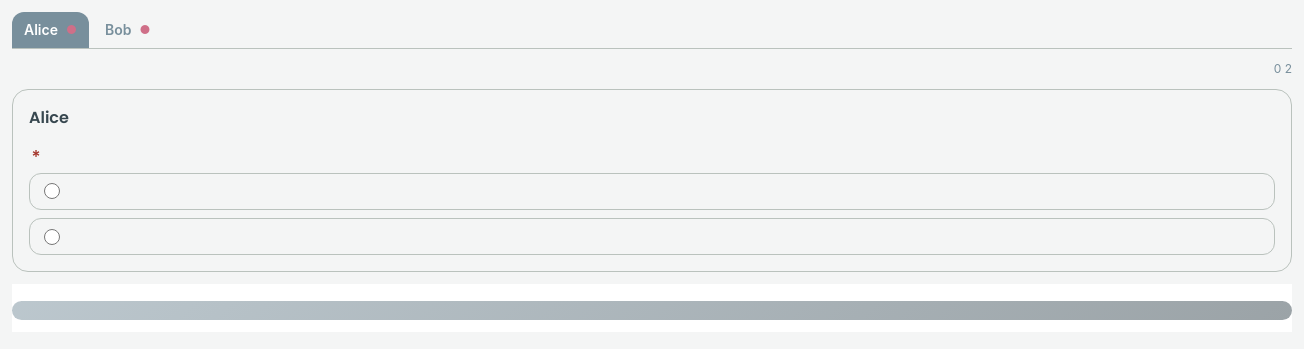
Test: GuestGroupRsvpForm › keeps the answers of a guest when another guest is selected in the meantime
The width and height of the screenshot is (1304, 349).
Step 1. Click the 2nd radio button → (52, 237), box [44, 229, 60, 245]
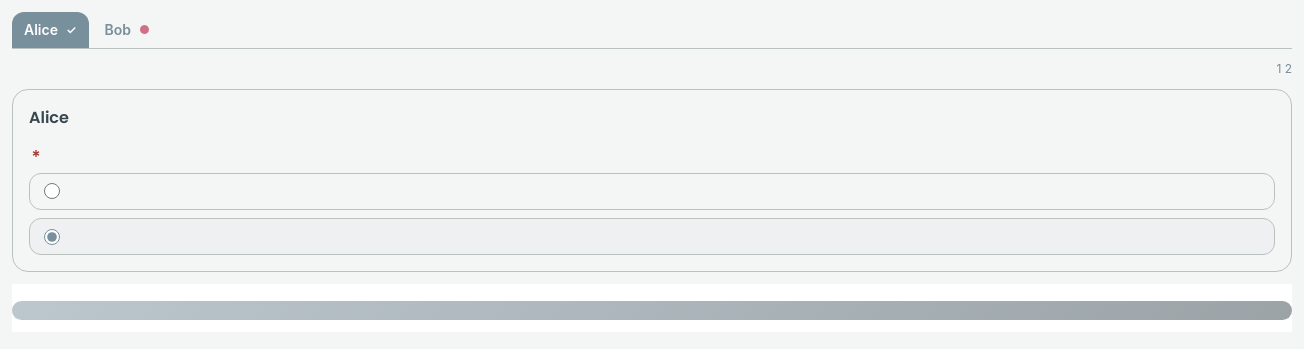
Step 2. Click the button "Bob ●" → (127, 30), box [92, 12, 162, 48]
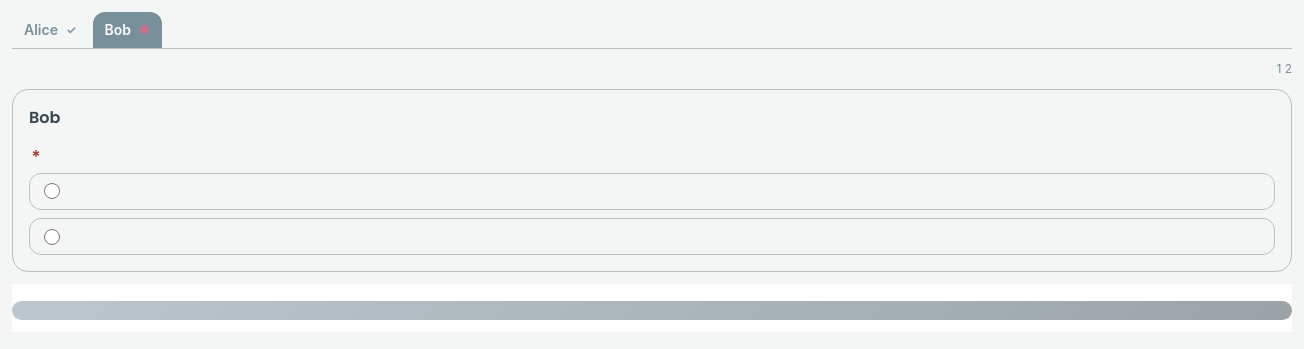
Step 3. Click the button "Alice ✓" → (50, 30), box [12, 12, 88, 48]
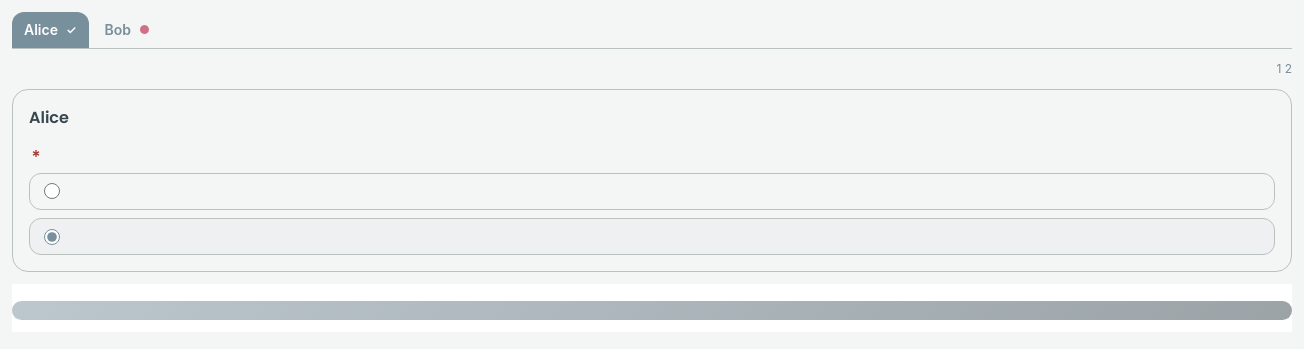
Result: the 2nd radio button is checked at [44, 229, 60, 245]
